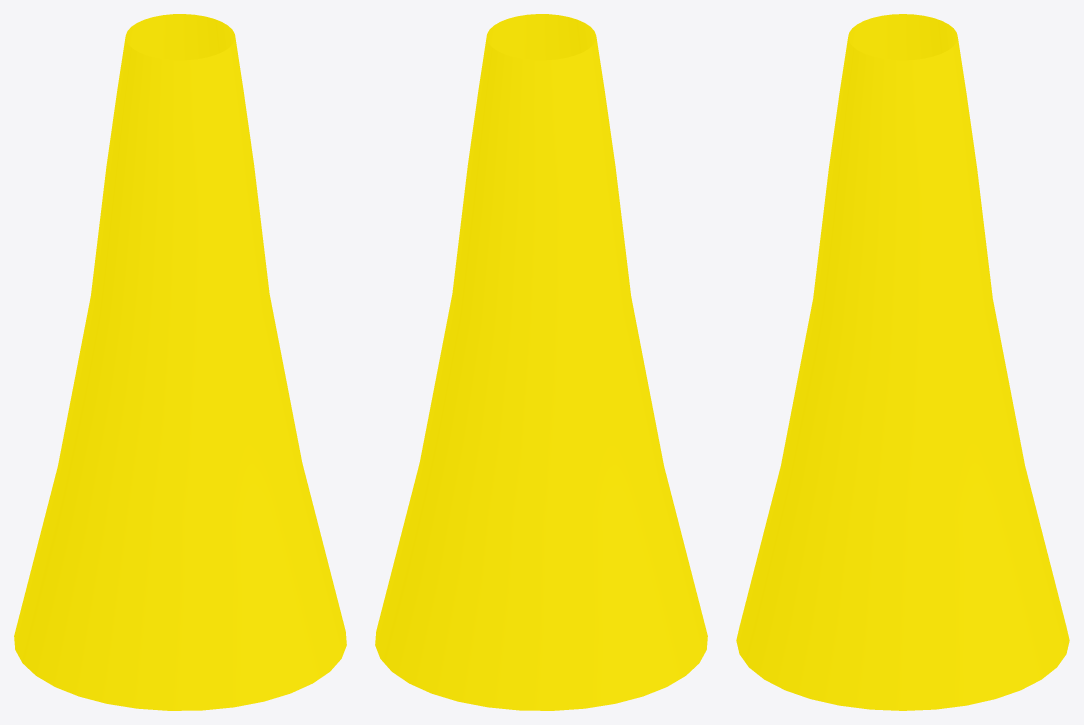
File: thruster_model.fbx
3 views of the same model, side by side, from view 1: azimuth 30°, elevation 25°; view 2: azimuth 150°, elevation 25°; view 3: azimuth 270°, elevation 25° (orthographic).
Parts seen in each view (by area): view 1: thruster; view 2: thruster; view 3: thruster.
Part boxes in pixels (x1,y1,x2,y2): thruster: (14, 14, 346, 710); thruster: (375, 14, 707, 710); thruster: (736, 14, 1069, 710).
Size of the model in its own units: 197 by 393 by 197.
